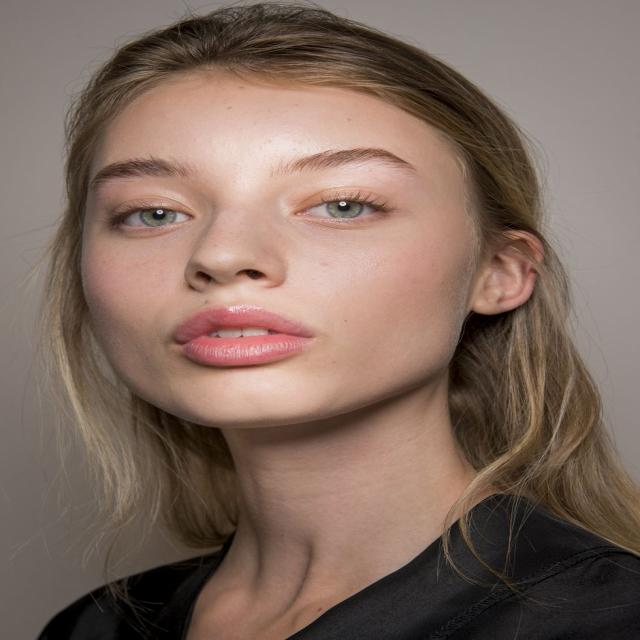earlobe: (469, 284, 507, 316)
eye: (295, 196, 389, 223), (111, 205, 199, 231)
nose: (180, 265, 284, 307)
wholeear: (469, 230, 546, 315)
